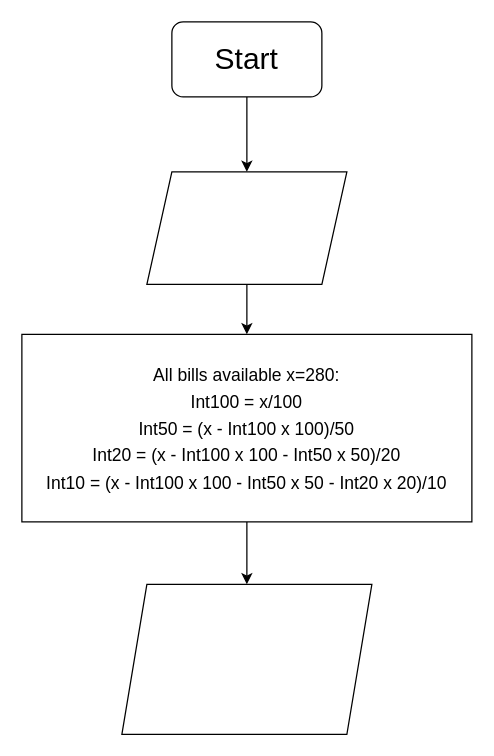
Image size: 494x756. Some labels were removed from this diagram. Here are the shapes that lost their labels. From the top down, the centre of each, then its label:
At (x=246, y=227): "Input money to draw".
At (x=246, y=658): "Output Int100=2 Int50=1 Int20=1 Int10=1".
